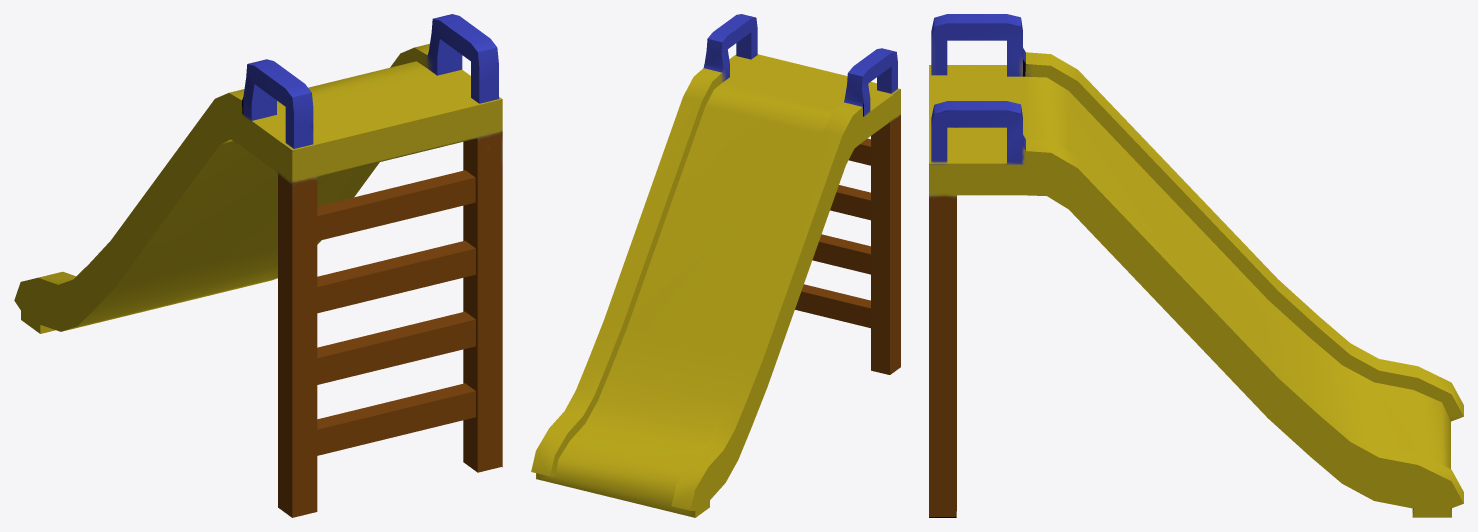
Rendered from slide.glb.
3 views of the same model, side by side, from view 1: azimuth 30°, elevation 25°; view 2: azimuth 150°, elevation 25°; view 3: azimuth 270°, elevation 25° (orthographic). The views are drawn at different scales.
Parts seen in each view (by area): view 1: pCube1; view 2: pCube1; view 3: pCube1.
Boxes of the visible parts, x1=… form: pCube1: x1=14, y1=14, x2=502, y2=517; pCube1: x1=531, y1=14, x2=900, y2=517; pCube1: x1=929, y1=14, x2=1463, y2=517.
Size of the model in its own units: 2.74 by 5.25 by 6.26.
Materials: 1 (1 with a texture image).
